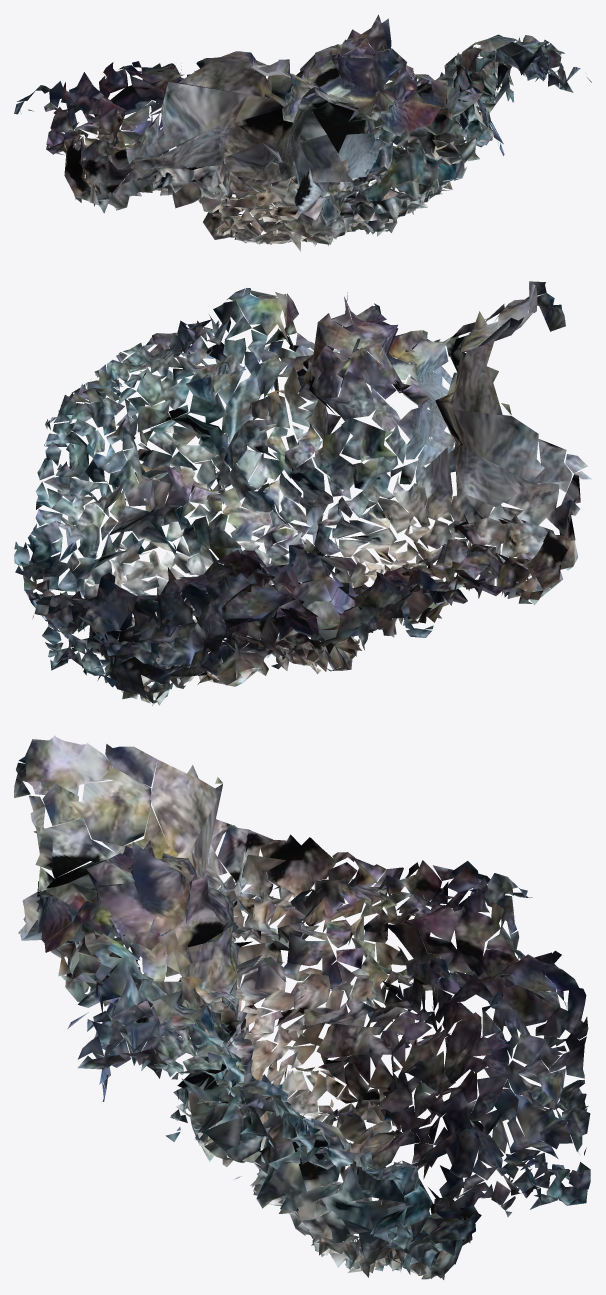
The model's file is coral-lettuce.glb.
3 views of the same model, one above another, from view 1: azimuth 30°, elevation 25°; view 2: azimuth 150°, elevation 25°; view 3: azimuth 270°, elevation 25° (orthographic). The views are drawn at different scales.
Parts seen in each view (by area): view 1: Model; view 2: Model; view 3: Model.
Part boxes in pixels (left/top/right/bottom): Model: left=14, top=14, right=591, bottom=251; Model: left=14, top=281, right=591, bottom=705; Model: left=14, top=735, right=590, bottom=1279.
Bounding box in the file's own units: 1.38 × 0.8764 × 1.12.
1 material, 1 textured.
